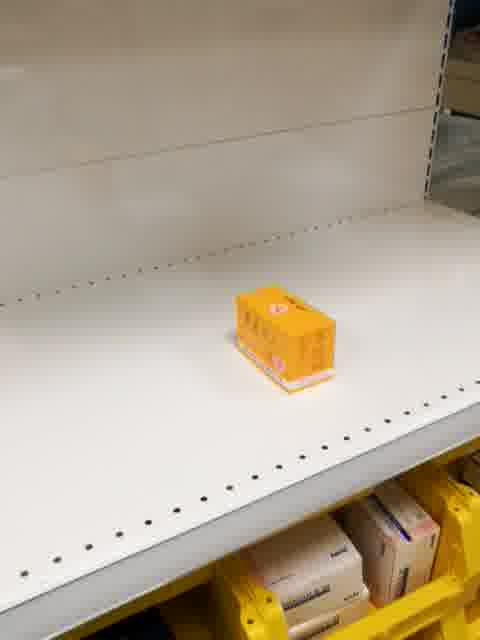jasminetea: (232, 285, 337, 394)
